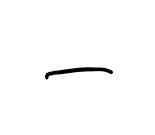plus: (45, 67, 113, 79)
